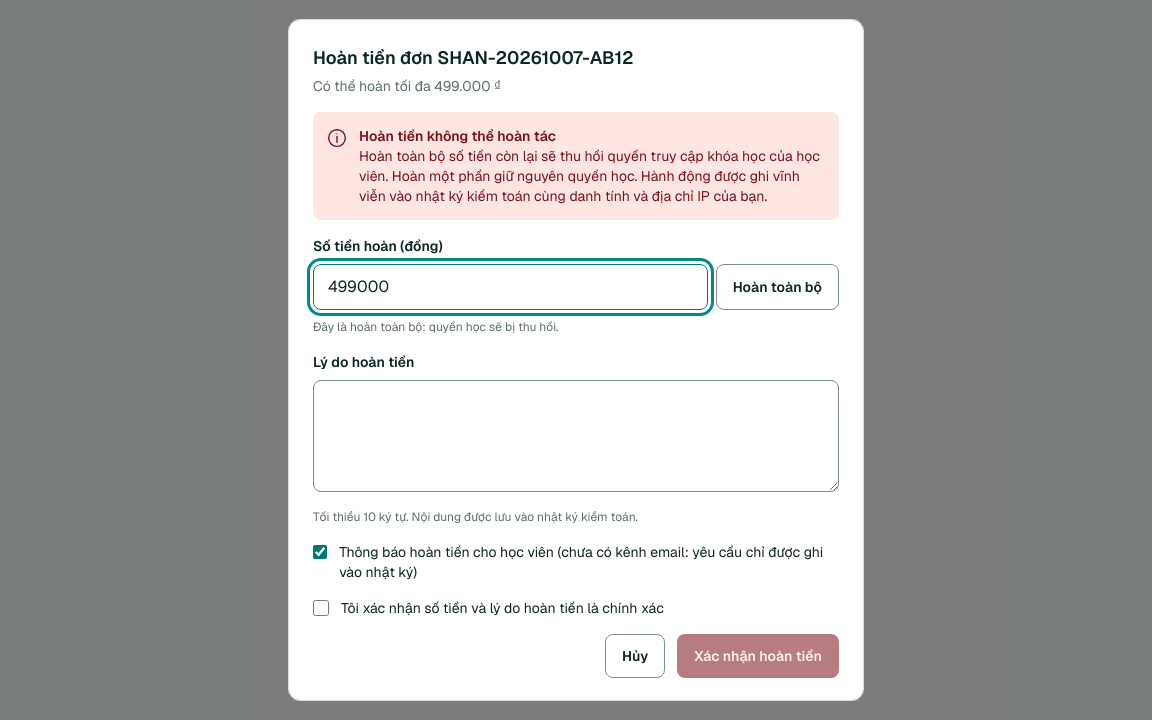
Test: RefundModal › requires a justification of at least 10 characters
Step 1. Click the checkbox labelled "Tôi xác nhận số tiền và lý do hoàn tiền là chính xác" → (321, 608), box [313,600,329,616]
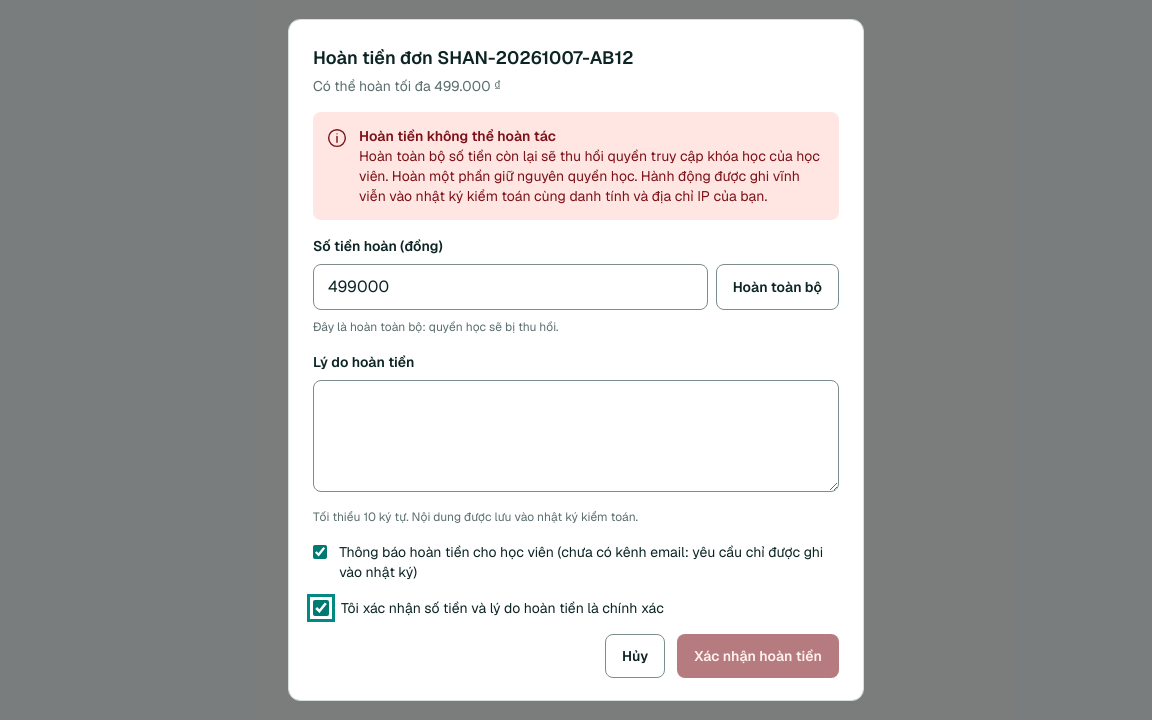
Step 2. Type "lý do" into the text box labelled "Lý do hoàn tiền" → (576, 436), box [313,380,839,492]
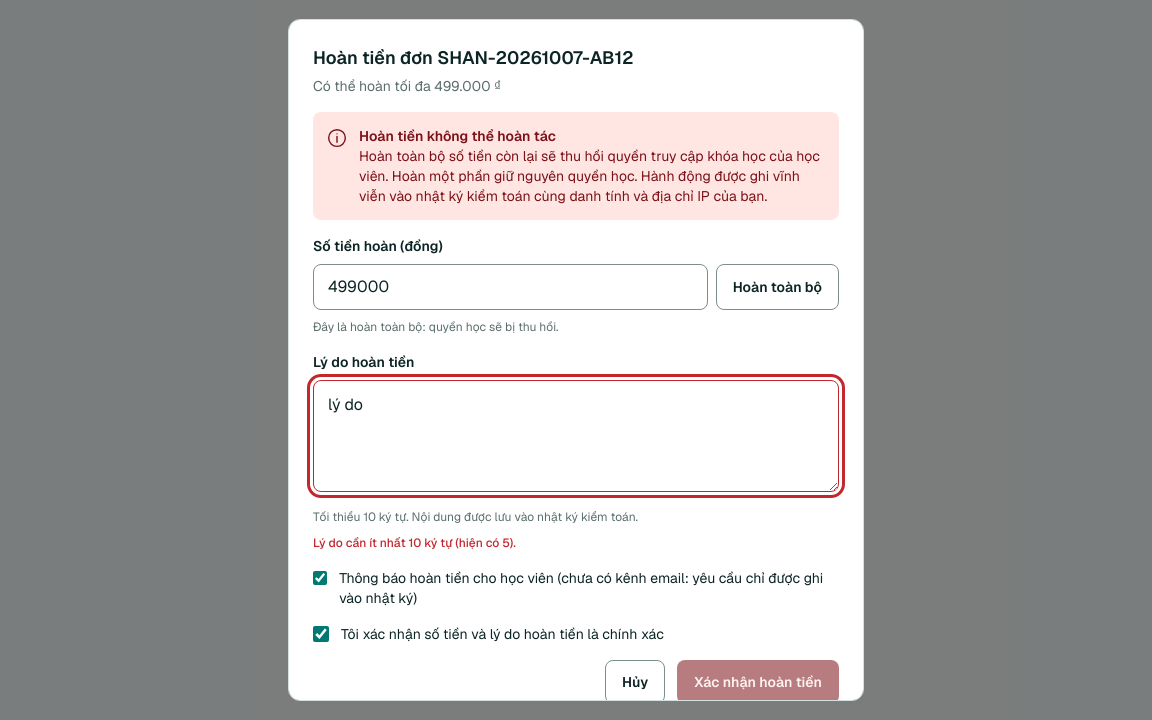
Expected: the button "Xác nhận hoàn tiền" is disabled, [677,660,839,701]
Expected: the text "Lý do cần ít nhất 10 ký tự (hiện có 5)." is shown, [313,535,516,551]
